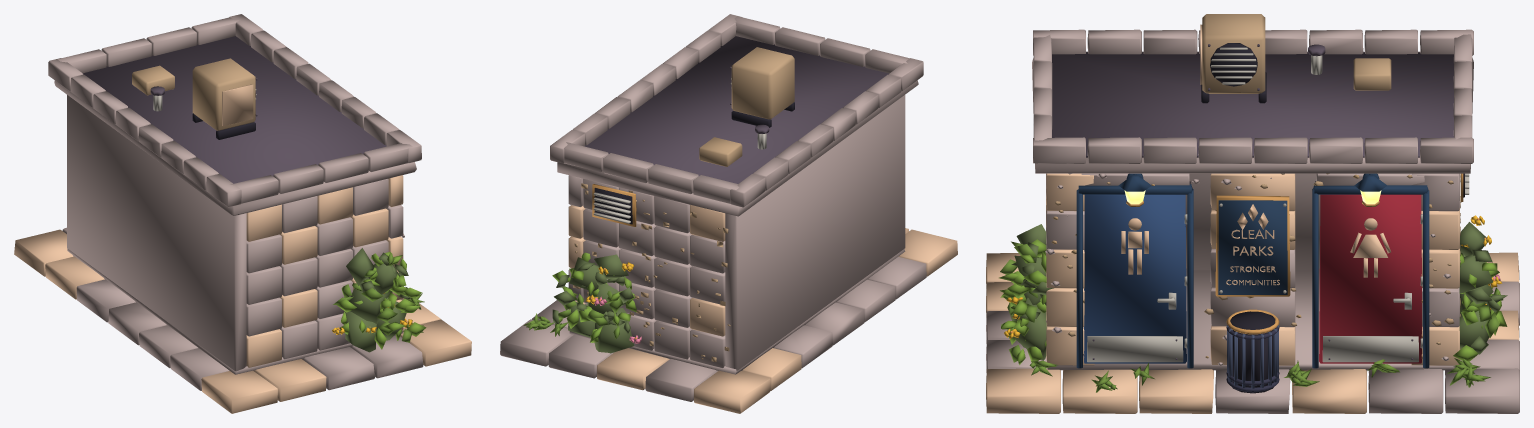
File: bld.restroom-block.lod1.glb
3 views of the same model, side by side, from view 1: azimuth 30°, elevation 25°; view 2: azimuth 150°, elevation 25°; view 3: azimuth 270°, elevation 25° (orthographic). The views are drawn at different scales.
Visible parts, largest first — view 1: object 11, roof, interior; view 2: object 11, roof, interior; view 3: object 11, roof, door_men_denimBlue, door_women_redDark, interior, door_men_silver, door_women_silver, door_women_bandage, door_men_bandage.
Boxes of the visible parts, x1,y1,x2,y2 form: object 11: (14, 95, 471, 413); roof: (48, 14, 421, 216); interior: (67, 249, 403, 374); object 11: (500, 95, 957, 413); roof: (550, 14, 923, 216); interior: (569, 249, 905, 374); object 11: (986, 173, 1519, 413); roof: (1032, 14, 1473, 173); door_men_denimBlue: (1083, 194, 1186, 363); door_women_redDark: (1319, 194, 1422, 363); interior: (1047, 270, 1455, 370); door_men_silver: (1087, 214, 1187, 362); door_women_silver: (1322, 214, 1422, 362); door_women_bandage: (1350, 218, 1390, 277); door_men_bandage: (1121, 218, 1148, 274).
Bounding box in the file's own units: 4.34 × 4.19 × 6.7.
